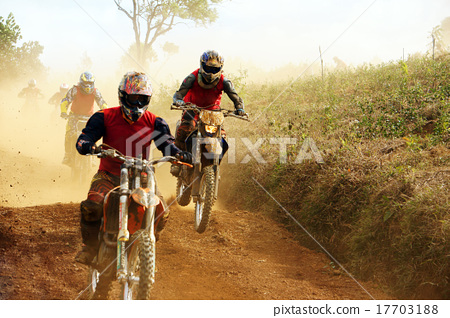helmet: (117, 68, 149, 120), (198, 50, 230, 87), (77, 71, 96, 95)
